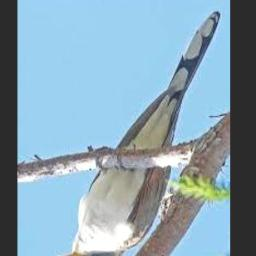Cuckoo: (56, 12, 220, 256)
